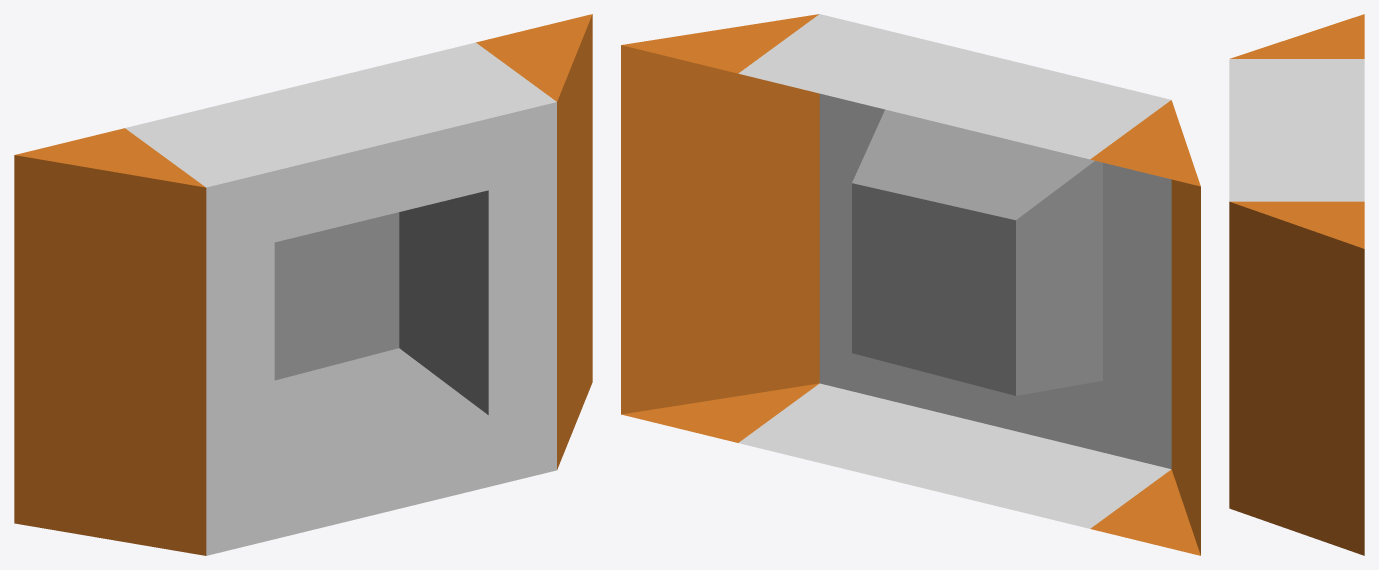
The model's file is Dispenser.fbx.
The picture shows the model from 3 angles, left to right: view 1: azimuth 30°, elevation 25°; view 2: azimuth 150°, elevation 25°; view 3: azimuth 270°, elevation 25°; orthographic projection. The views are drawn at different scales.
Parts seen in each view (by area): view 1: Machine; view 2: Machine; view 3: Machine.
Boxes of the visible parts, <box> form: Machine: <box>14,14,592,555</box>; Machine: <box>621,14,1200,555</box>; Machine: <box>1229,14,1364,555</box>.
Bounding box in the file's own units: 507 × 309 × 123.
